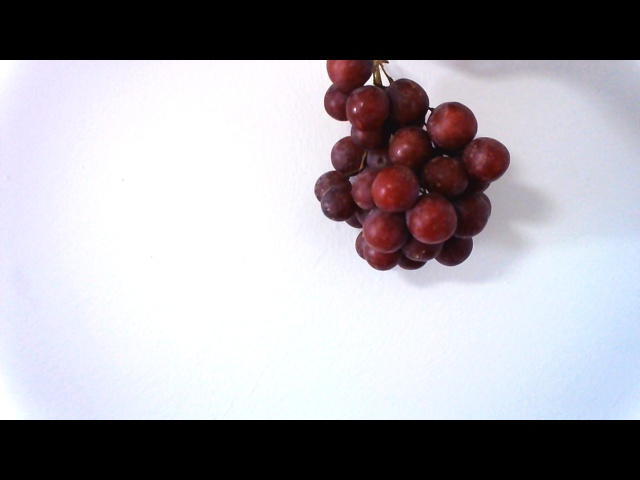grape: (304, 60, 512, 278)
